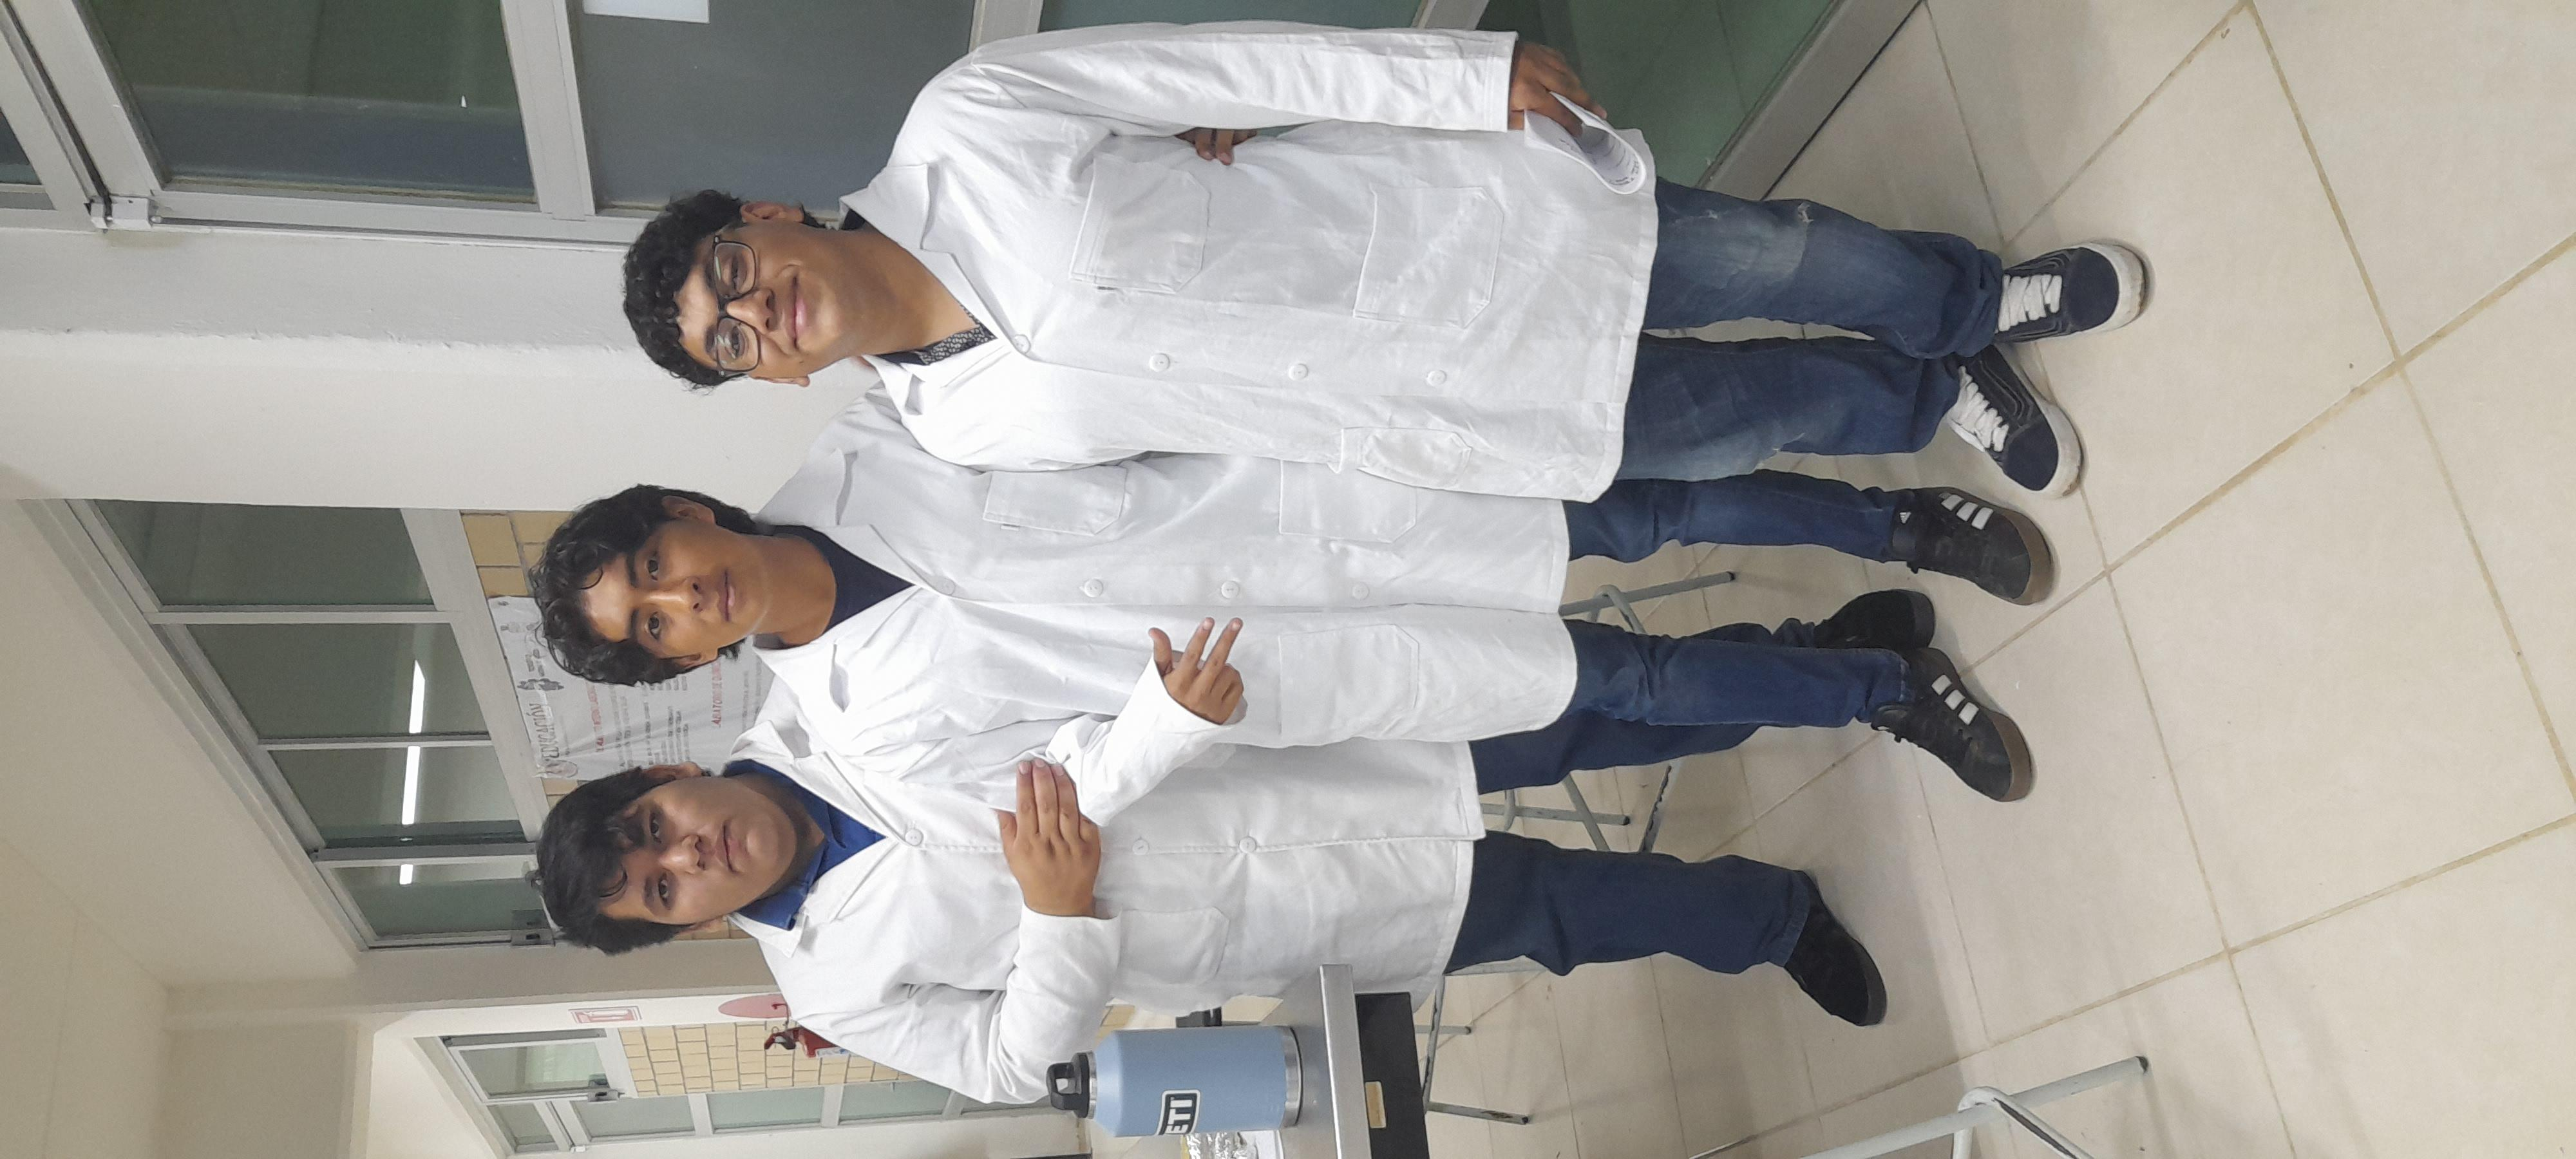Bata-Correcta: (1462, 281, 2525, 965), (746, 240, 1712, 923), (126, 238, 1020, 849)
